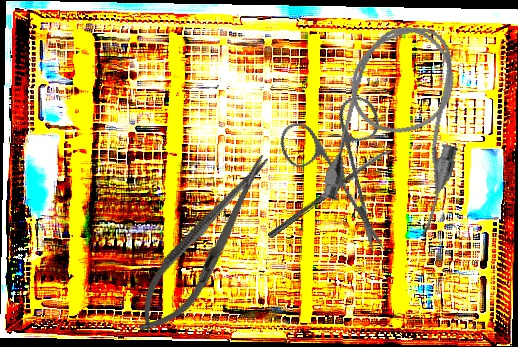Cannula: (317, 13, 483, 240)
Iris Scissors: (252, 74, 435, 256)
Needle Holder: (123, 143, 287, 346)
Surgical Spoon: (267, 145, 394, 240)
